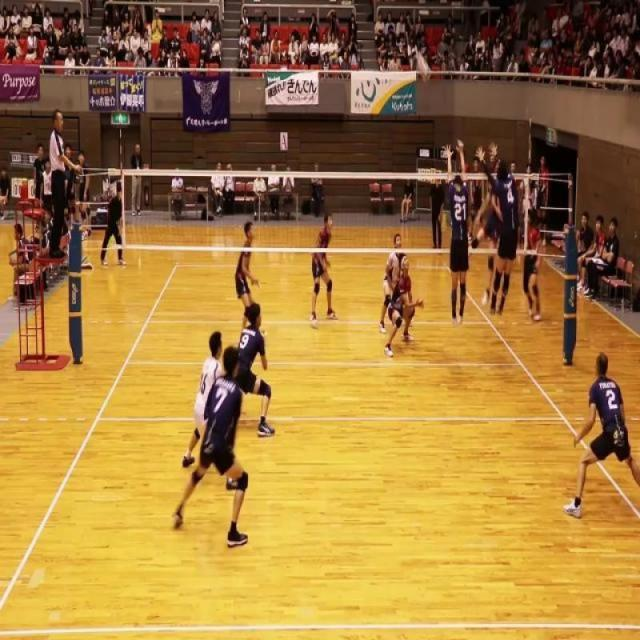volleyball: (416, 54, 432, 83)
